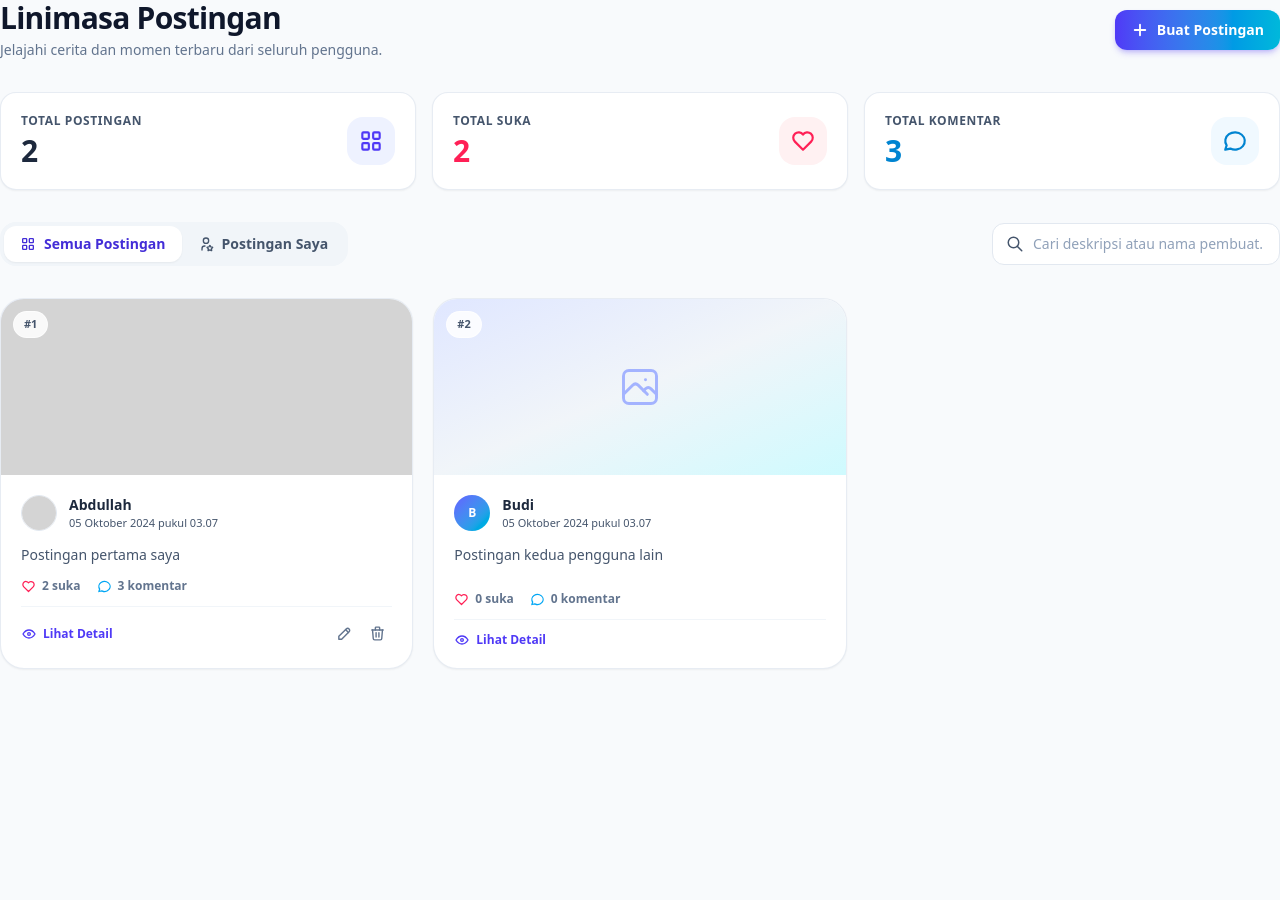
HomePage › should open and close the change post modal for owned posts
The width and height of the screenshot is (1280, 900).
What coordinates should you click on to do the following:
click the button with test id "edit-post-1"
I would click on:
 (345, 634)
Its box is [330, 619, 359, 648].
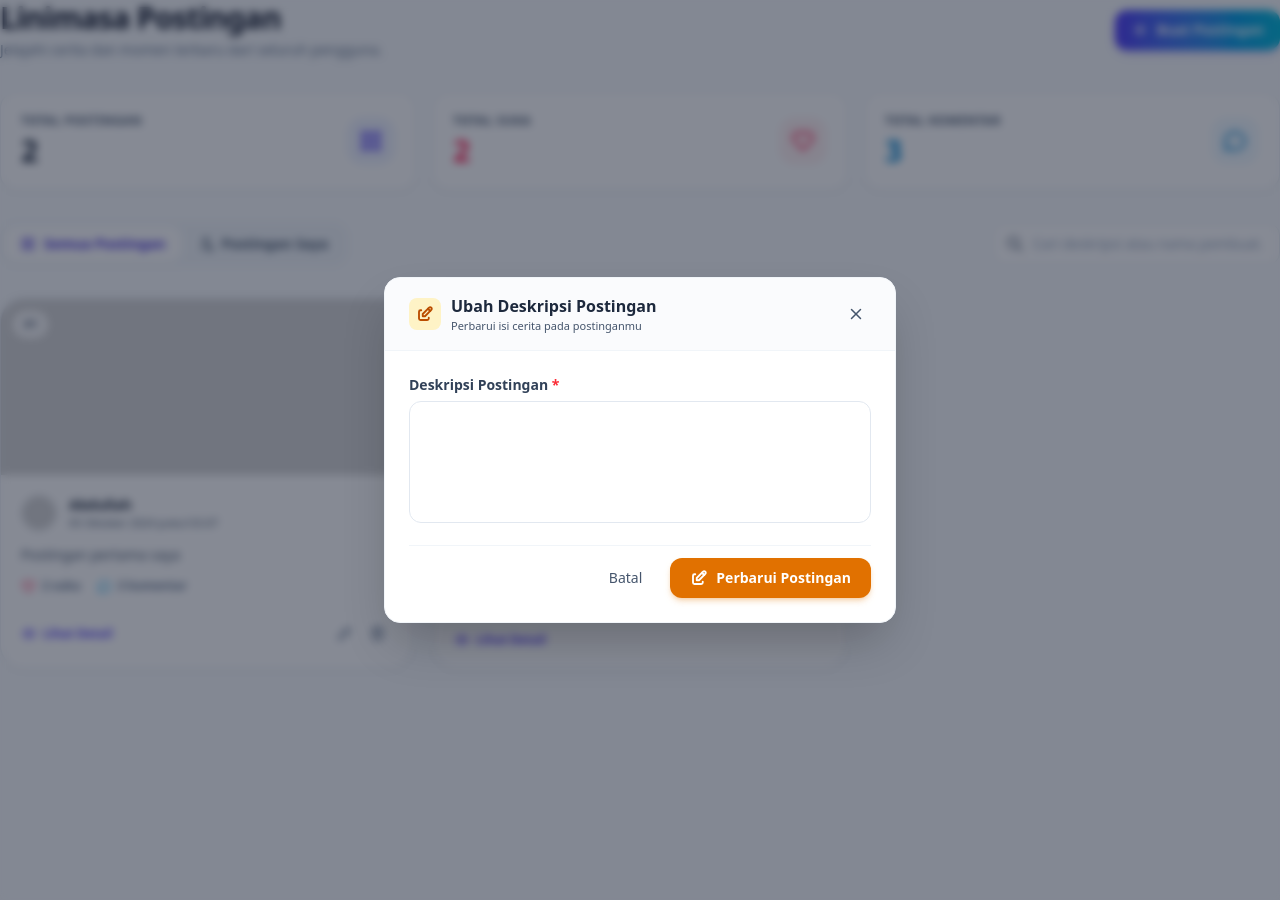
Now the element with test id "edit-post-modal" is shown
What coordinates should you click on to do the following:
click the button with test id "close-edit-modal-btn"
I would click on:
 (856, 314)
Its box is [841, 299, 871, 329].
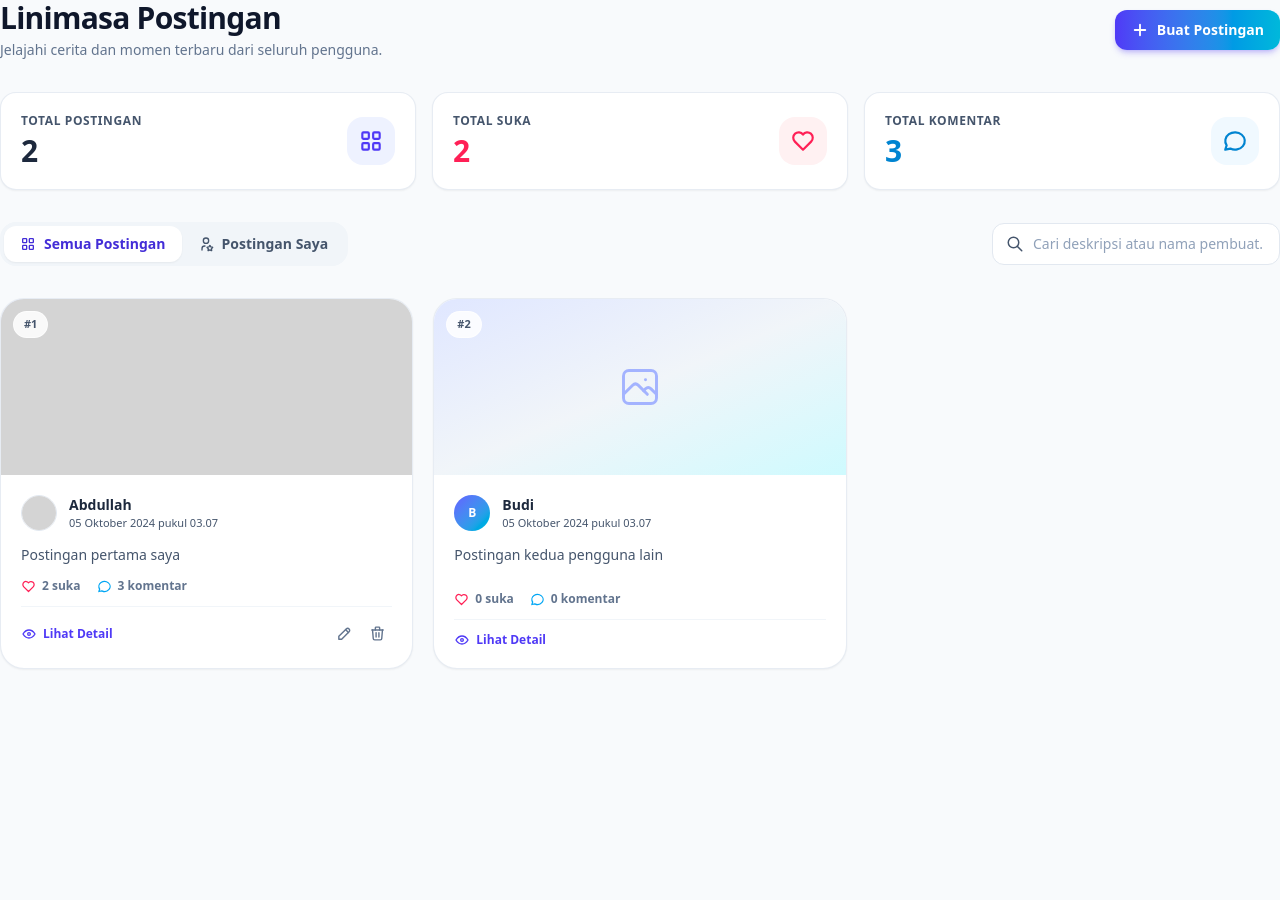
Now the element with test id "edit-post-modal" is gone
